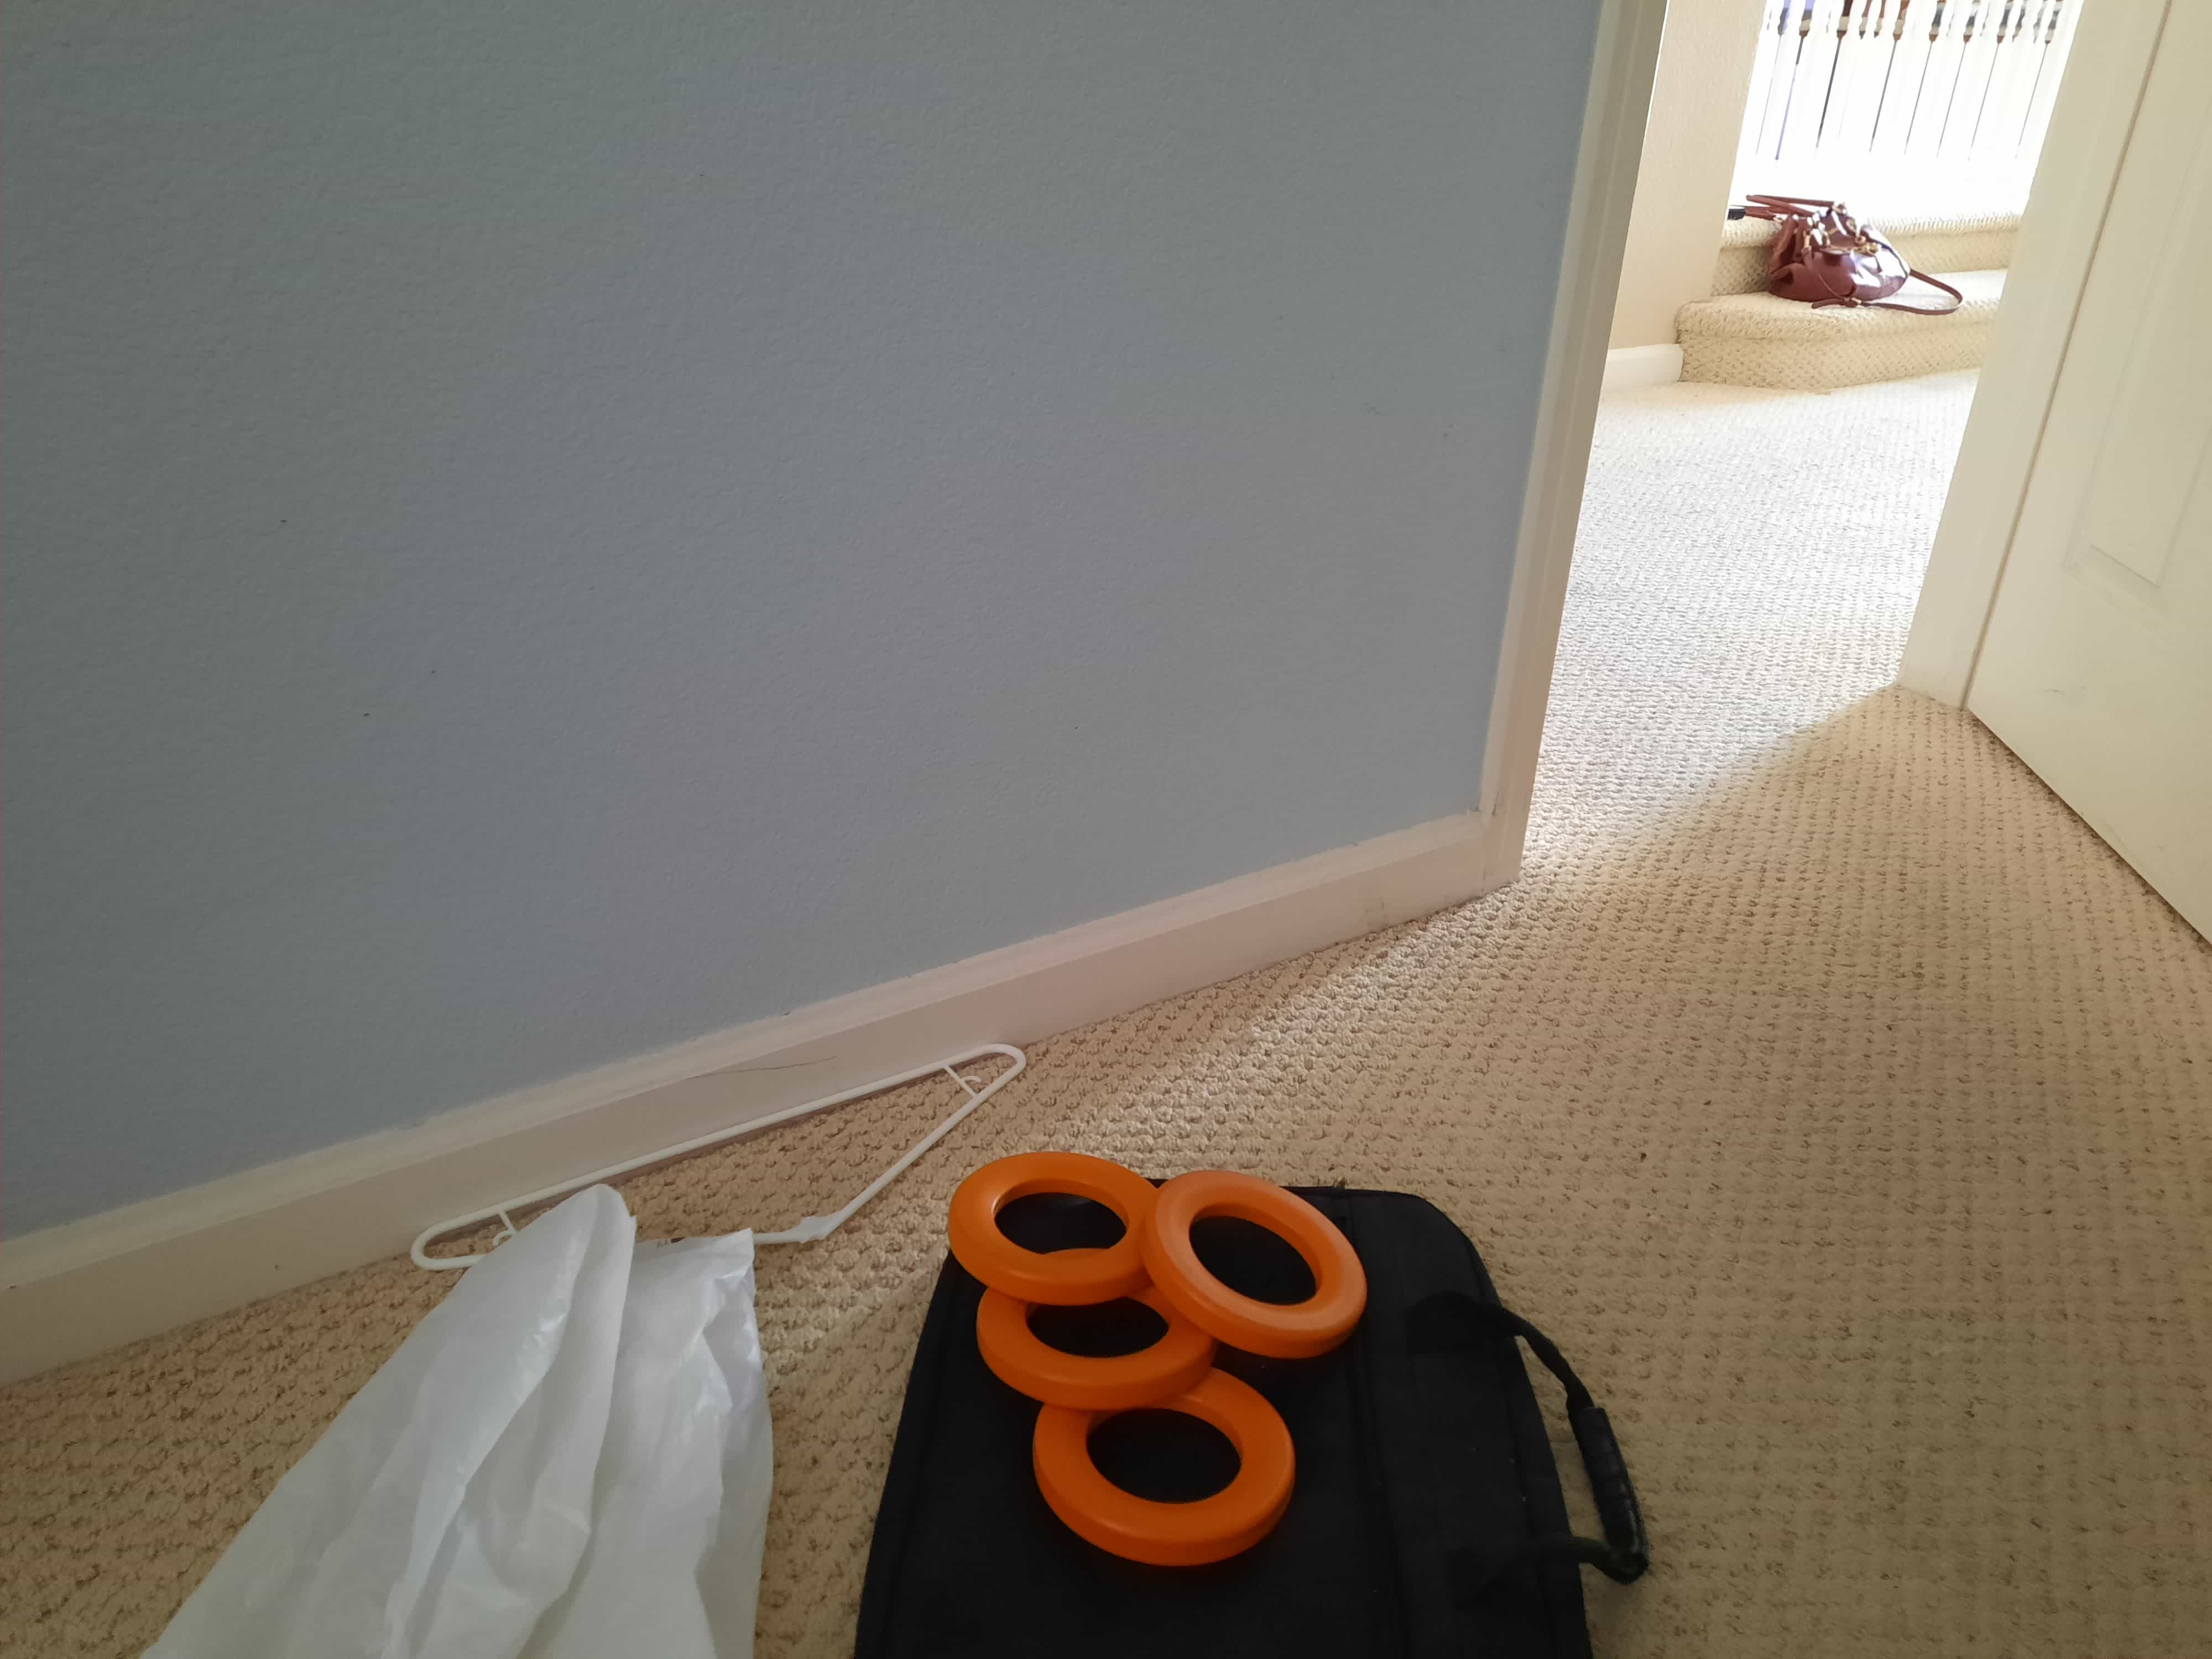OneStack: (1019, 1366, 1299, 1553), (1148, 1152, 1374, 1347), (941, 1152, 1155, 1293), (967, 1291, 1217, 1406)
